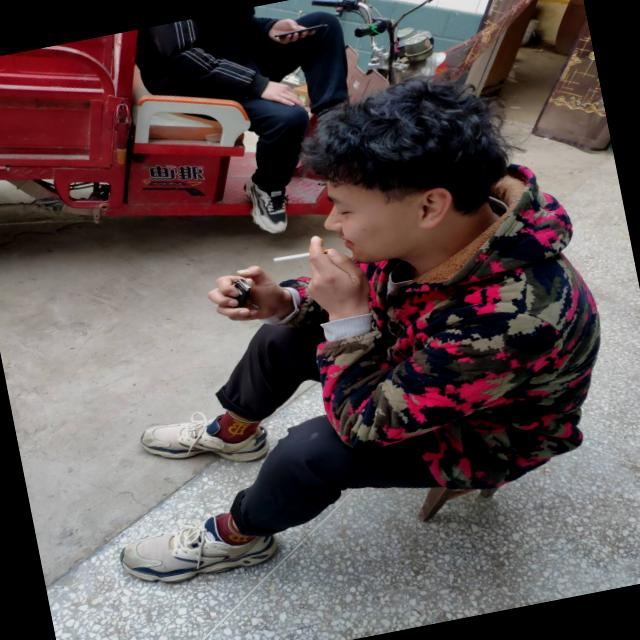cigarette: (271, 230, 355, 274)
